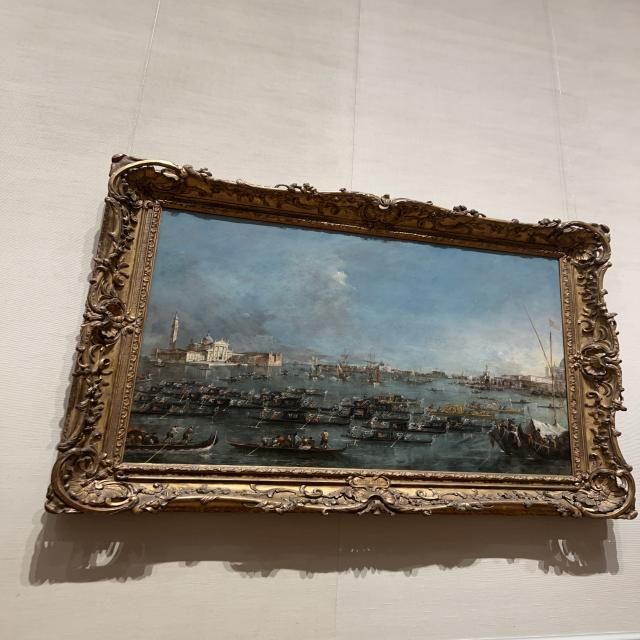ships: (125, 213, 565, 470)
